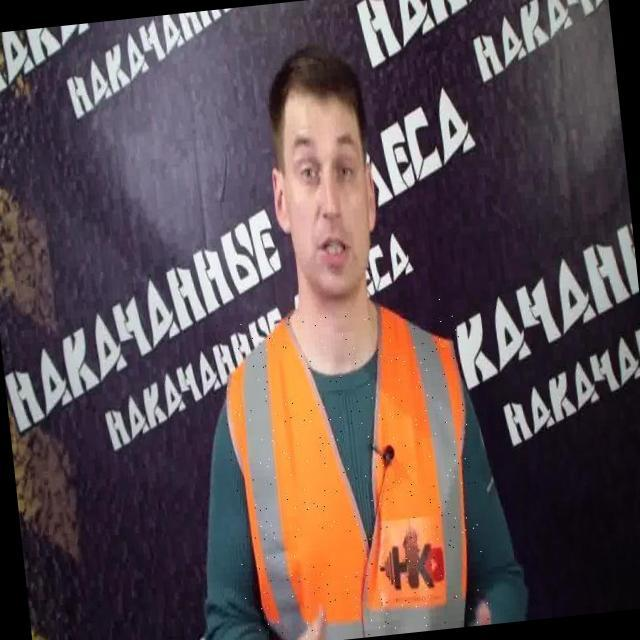Person: (181, 29, 537, 640)
Safety Vest: (216, 295, 491, 640)
no-helmet: (260, 44, 374, 113)
